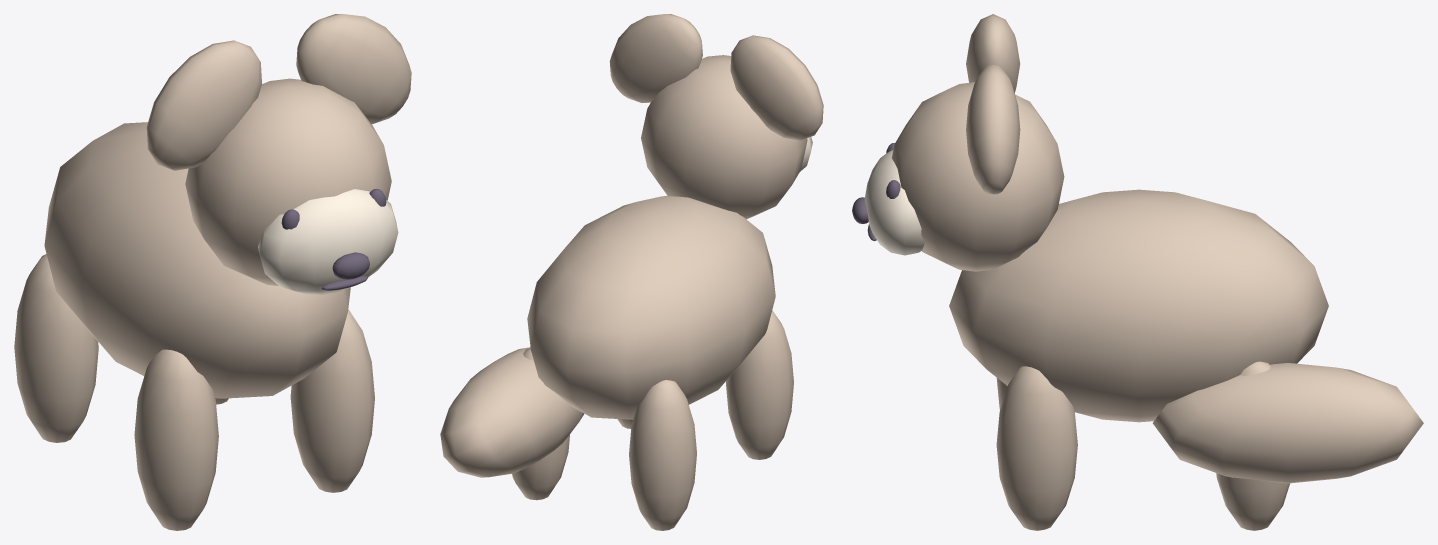
File: dog-hope.glb
The picture shows the model from 3 angles, left to right: view 1: azimuth 30°, elevation 25°; view 2: azimuth 150°, elevation 25°; view 3: azimuth 270°, elevation 25°; orthographic projection. The views are drawn at different scales.
Parts seen in each view (by area): view 1: dog hope offline illustration; view 2: dog hope offline illustration; view 3: dog hope offline illustration.
Part boxes in pixels (x1,y1,x2,y2): dog hope offline illustration: (14, 14, 411, 530); dog hope offline illustration: (440, 14, 823, 530); dog hope offline illustration: (852, 14, 1423, 530).
Size of the model in its own units: 0.4197 by 0.7348 by 0.843.
